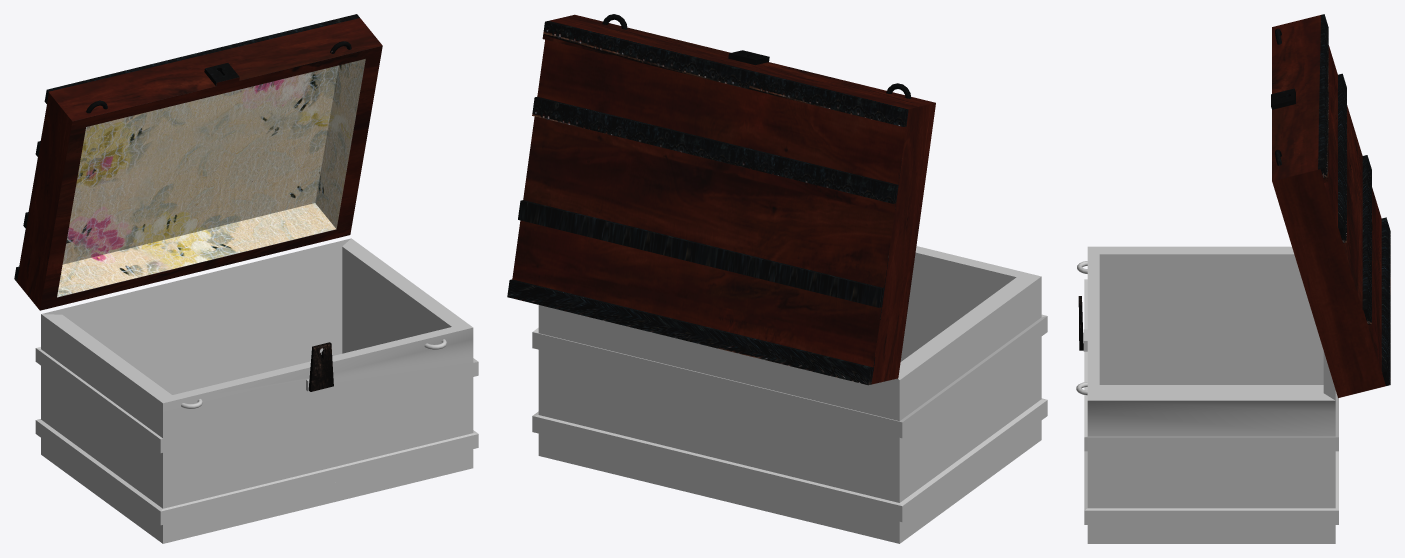
File: Chest.fbx
3 renders of one model, left to right at view 1: azimuth 30°, elevation 25°; view 2: azimuth 150°, elevation 25°; view 3: azimuth 270°, elevation 25°, orthographic. The views are drawn at different scales.
Visible parts, largest first — view 1: pTorus8, pTorus7, pCube9; view 2: pTorus7, pTorus8; view 3: pTorus8, pTorus7.
Boxes of the visible parts, left/top/right/bottom form: pTorus8: left=35, top=238, right=478, bottom=543; pTorus7: left=14, top=14, right=382, bottom=310; pCube9: left=308, top=342, right=333, bottom=391; pTorus7: left=507, top=14, right=935, bottom=385; pTorus8: left=532, top=246, right=1047, bottom=543; pTorus8: left=1076, top=246, right=1338, bottom=543; pTorus7: left=1271, top=14, right=1390, bottom=397.
Size of the model in its own units: 1.51 by 1.67 by 1.27.
